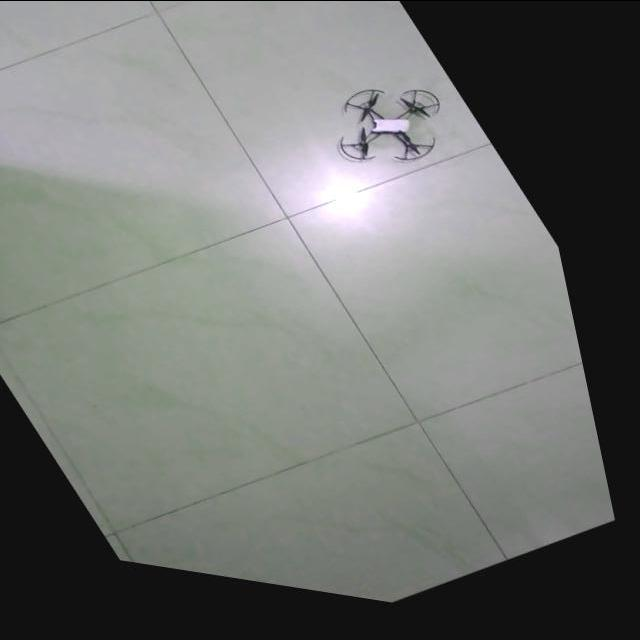drone: (361, 93, 465, 167)
